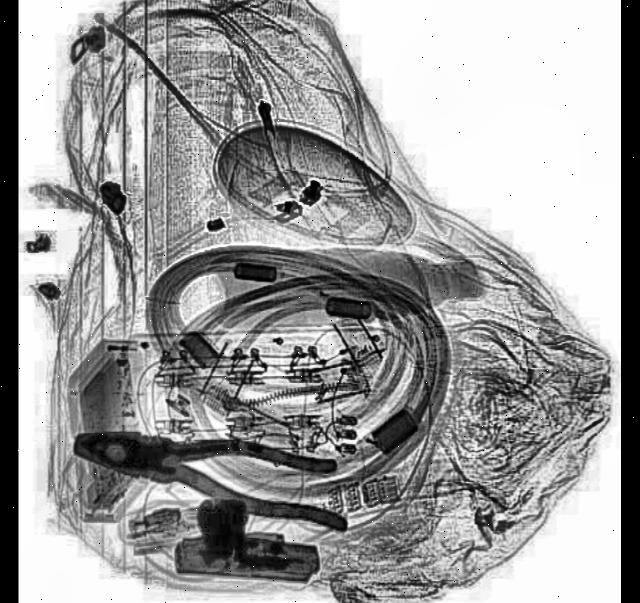Gun: (176, 503, 322, 586)
Pliers: (72, 413, 359, 536)
